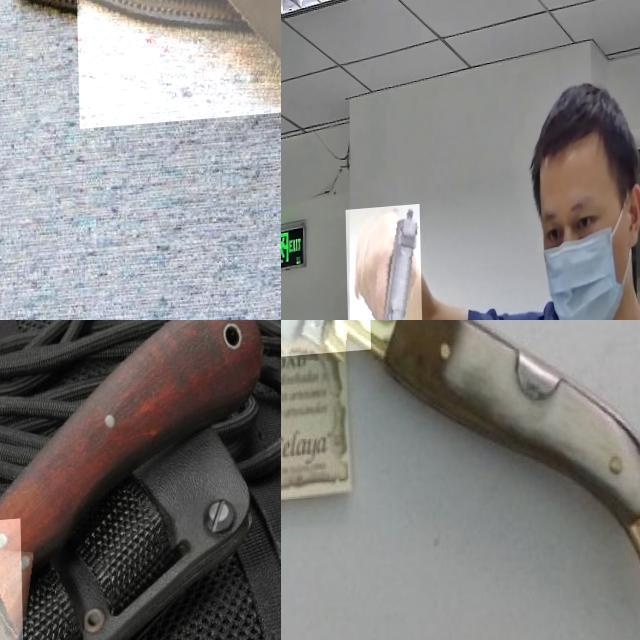-: (71, 0, 281, 192), (281, 320, 438, 469), (0, 524, 181, 640)
gun-knife-thesis - v11 Yolov5 augmented: (344, 208, 421, 320)
